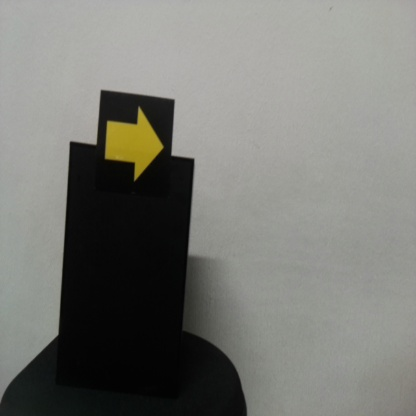id_3: (101, 93, 172, 192)
